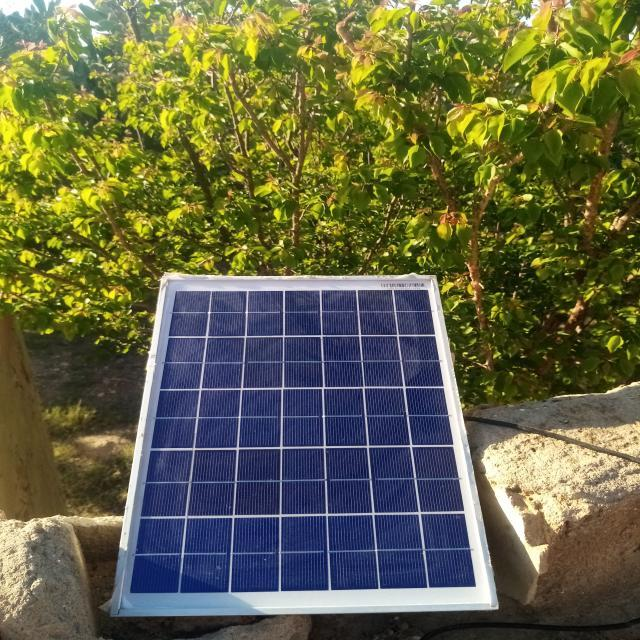no faulty: (115, 276, 498, 615)
